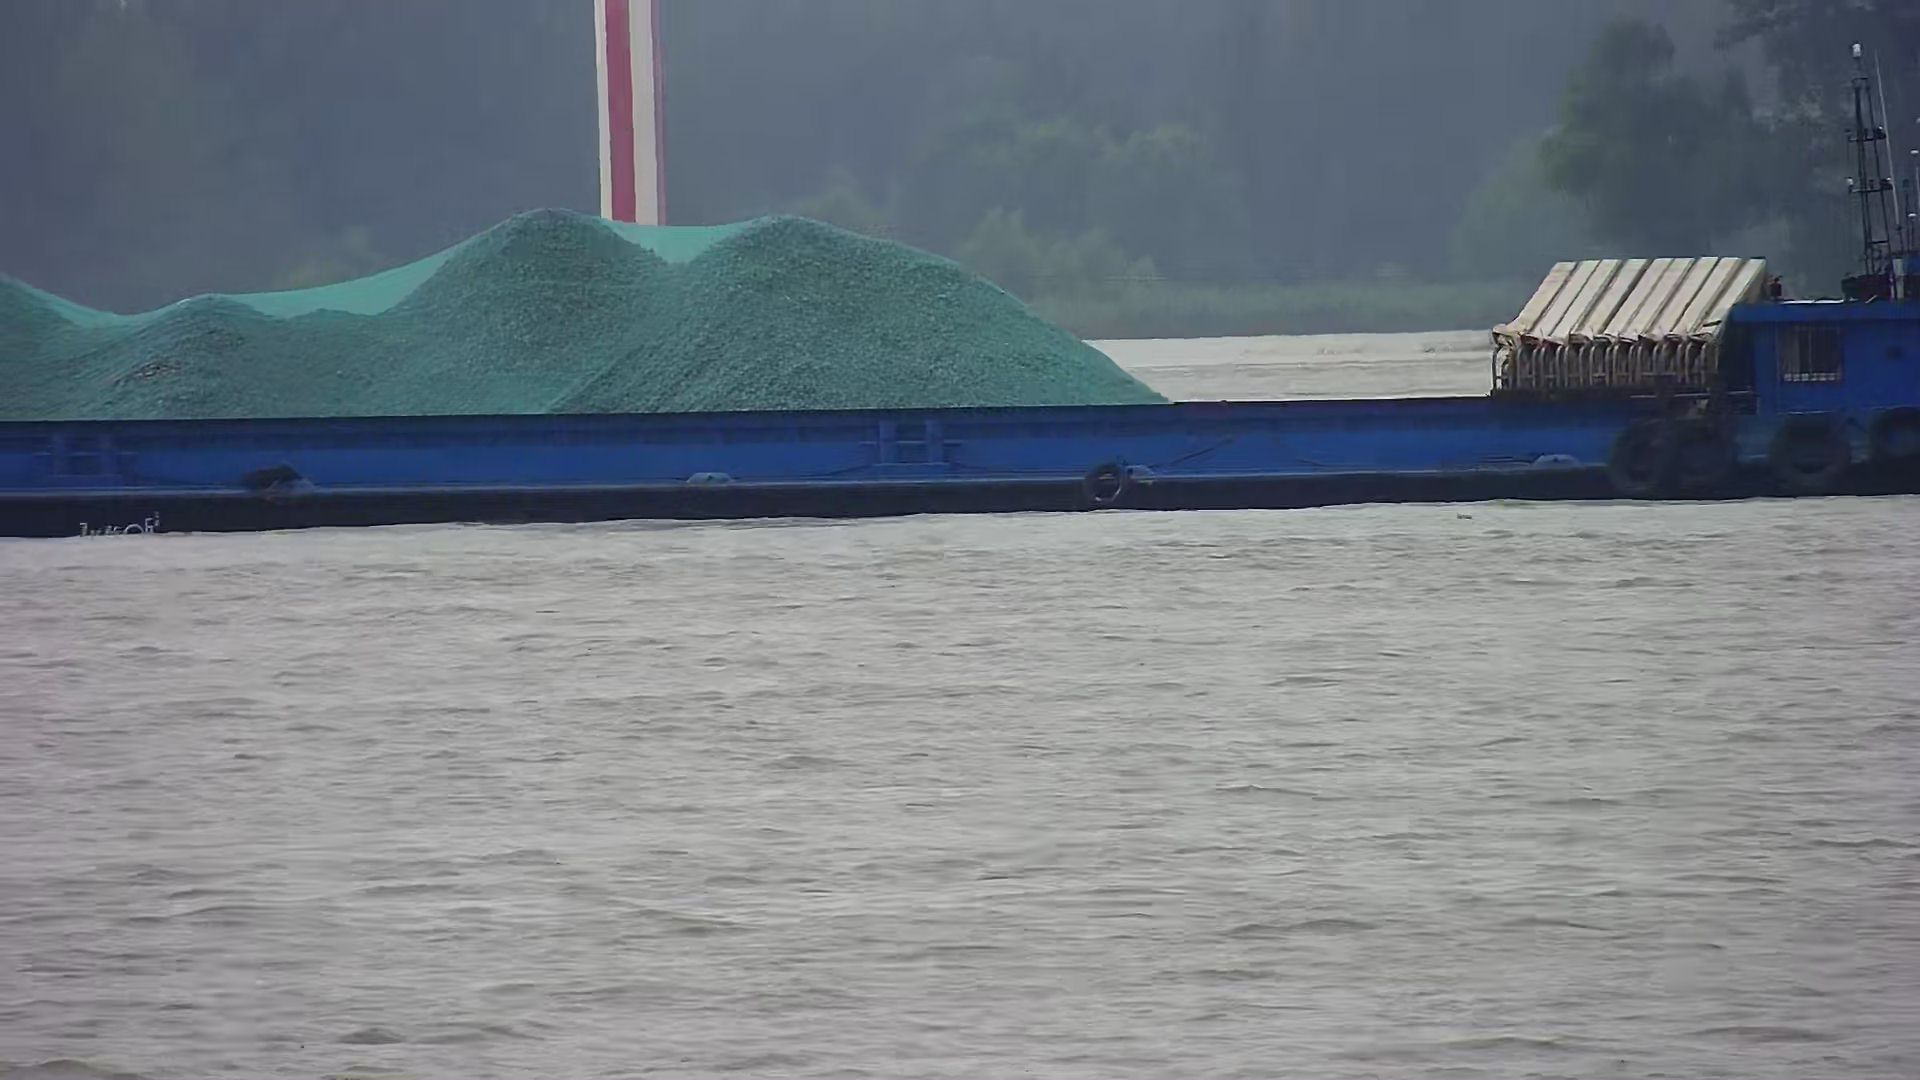ship: (3, 229, 1920, 534)
